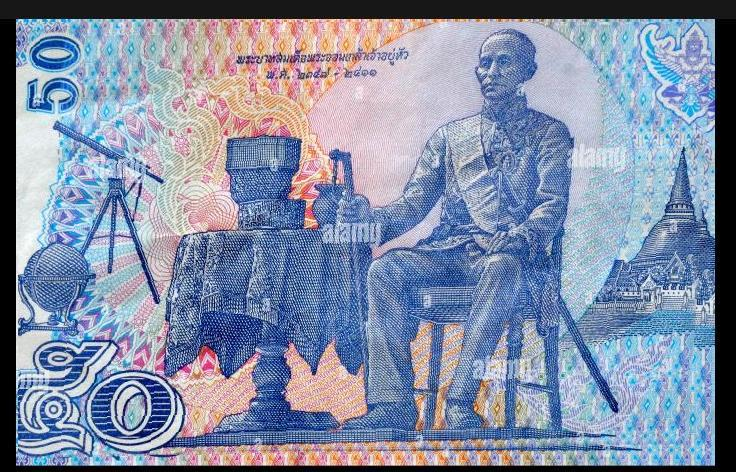50BahtTai: (19, 22, 715, 459)
